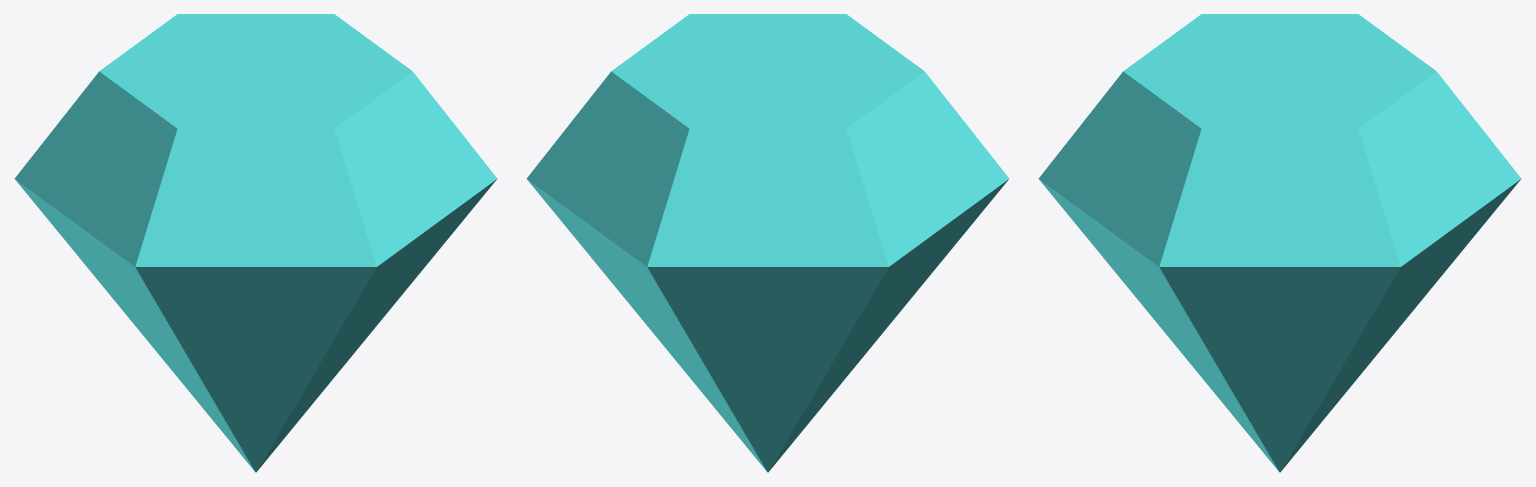
Rendered from DiamondCone.glb.
The picture shows the model from 3 angles, left to right: view 1: azimuth 30°, elevation 25°; view 2: azimuth 150°, elevation 25°; view 3: azimuth 270°, elevation 25°; orthographic projection.
Parts seen in each view (by area): view 1: Cone; view 2: Cone; view 3: Cone.
Boxes of the visible parts, x1,y1,x2,y2 form: Cone: [14, 14, 497, 472]; Cone: [526, 14, 1009, 472]; Cone: [1038, 14, 1521, 472].
Size of the model in its own units: 0.5459 by 0.5783 by 0.6304.
1 material, 1 textured.
